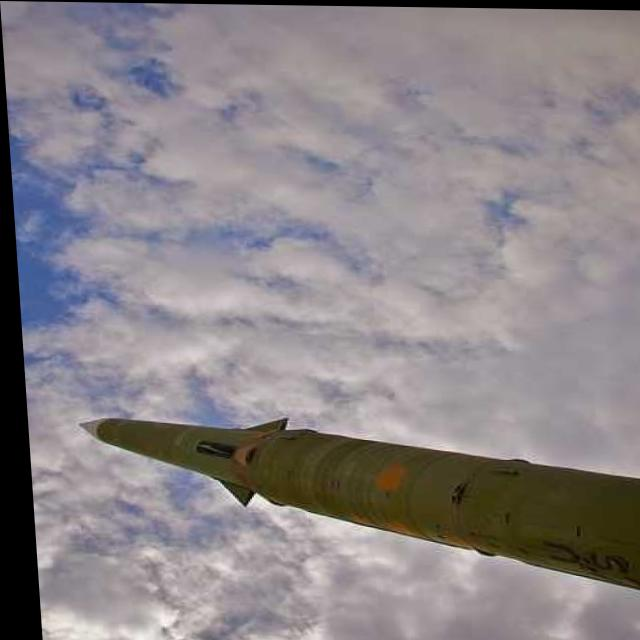missile: (68, 410, 640, 608)
